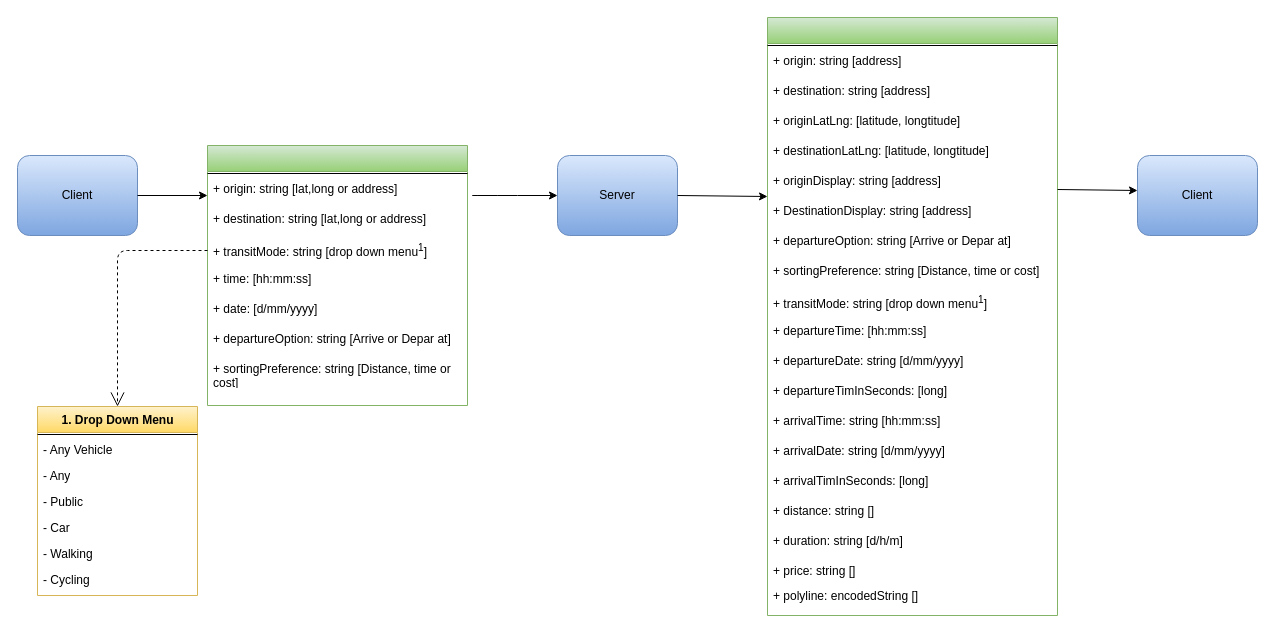
Image size: 1275x641. Some labels were removed from this diagram. The shapes that lost their labels are listed below. From the top down, each one's box as (x1, y1, x2, y2) in pixels, then its label:
(206, 144, 468, 406): Package
(766, 16, 1058, 616): Package: public
